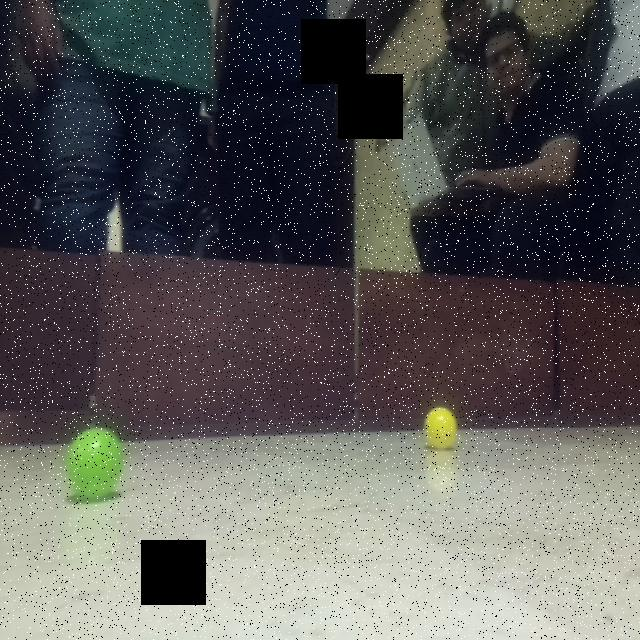ball: (68, 427, 126, 500), (423, 406, 461, 452)
